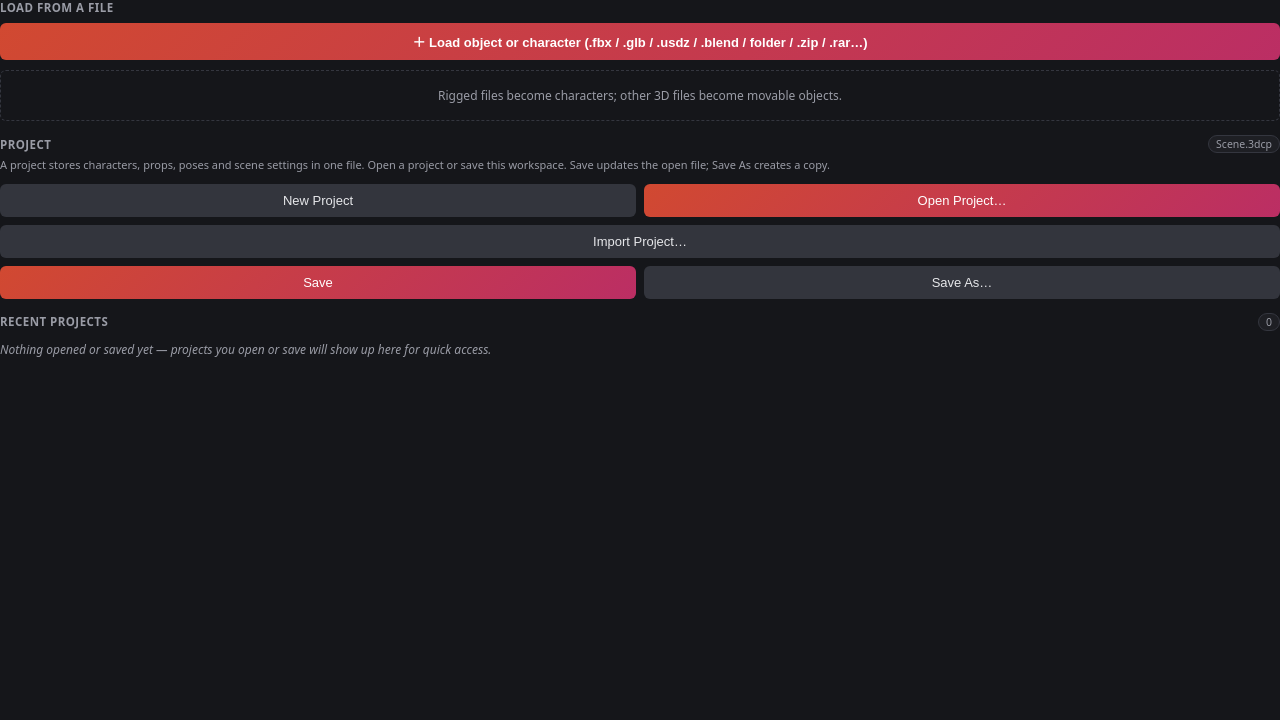
title-bar project saves › shows a persistent error dialog for project panel Save As failures
The width and height of the screenshot is (1280, 720).
Click the button "Save As…" at (962, 282), box [644, 266, 1279, 298]
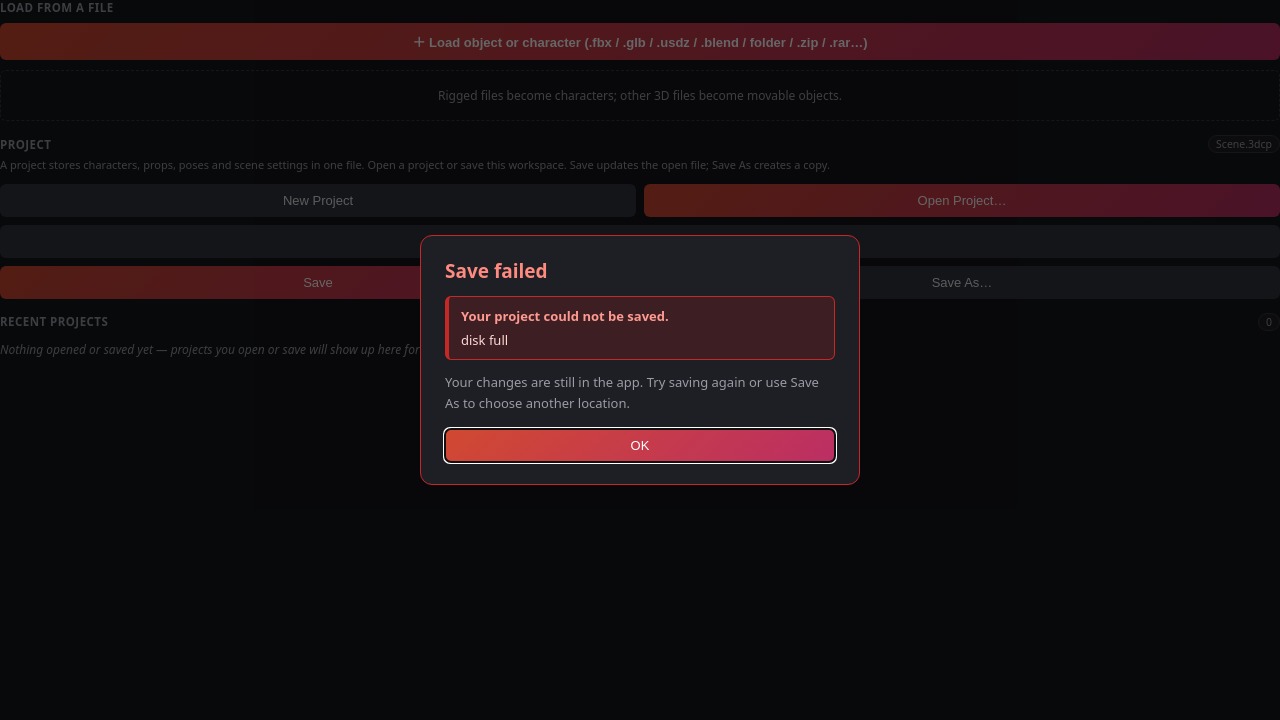
Expected: the dialog shows "Save failed", [445, 258, 548, 284]
Expected: the dialog shows "disk full", [461, 331, 508, 349]
Expected: the dialog shows "changes are still in the app", [445, 373, 819, 412]
Press Escape in the button "OK", box [445, 429, 835, 462]
Expected: the dialog is shown, [420, 235, 860, 485]
Click the button "OK" at (640, 446), box [445, 429, 835, 462]
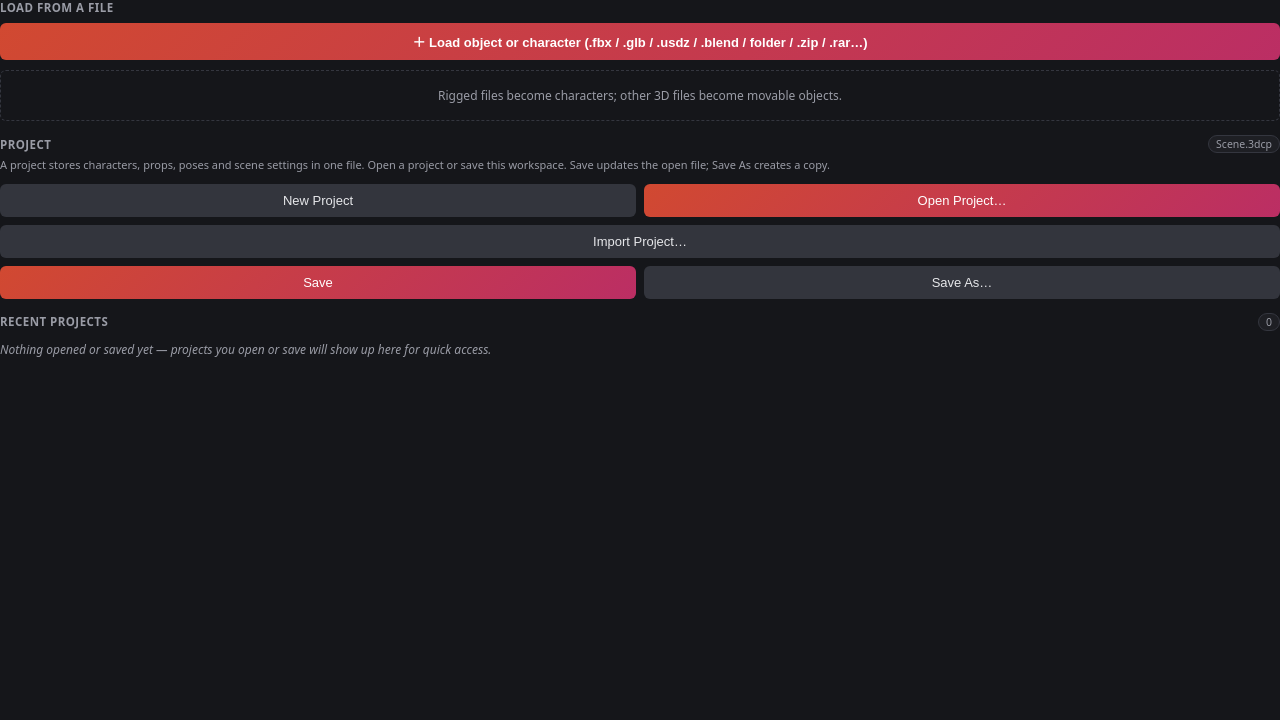
Expected: the dialog is gone
